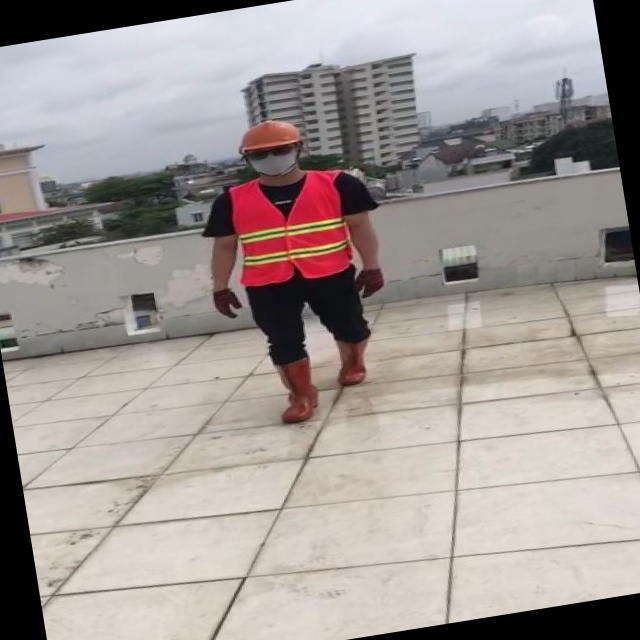boots: (334, 351, 375, 418), (268, 340, 312, 388)
gloves: (248, 276, 282, 305), (396, 273, 423, 306)
helmet: (307, 114, 378, 144)
vest: (276, 172, 392, 277)
